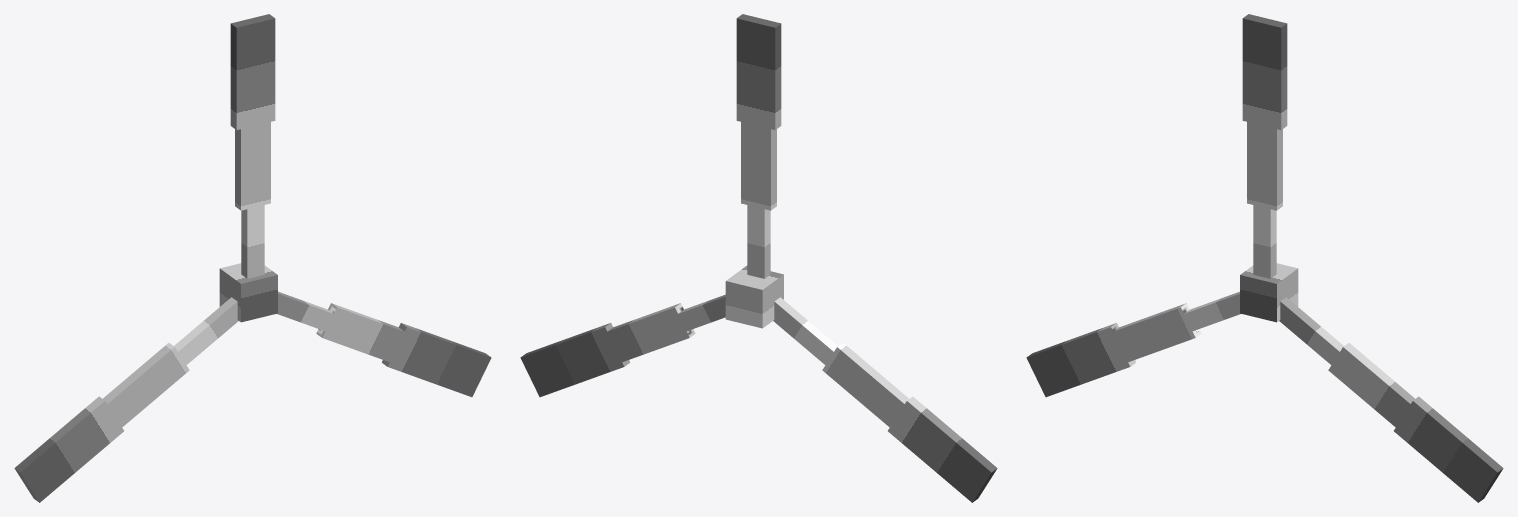
File: RotorBlockModel.obj
3 views of the same model, side by side, from view 1: azimuth 30°, elevation 25°; view 2: azimuth 150°, elevation 25°; view 3: azimuth 330°, elevation 25° (orthographic).
Parts seen in each view (by area): view 1: Plane; view 2: Plane; view 3: Plane.
Part boxes in pixels (x1,y1,x2,y2): Plane: (14, 14, 491, 502); Plane: (520, 14, 997, 502); Plane: (1026, 14, 1503, 502).
Size of the model in its own units: 2.56 by 2.22 by 0.2.
Materials: 1 (1 with a texture image).
